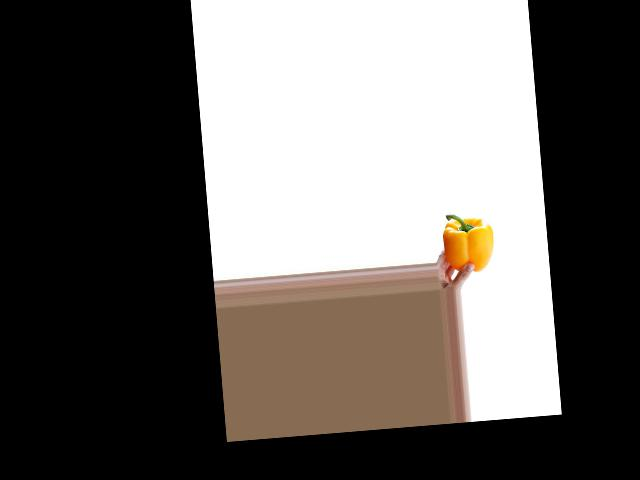bell_pepper: (441, 208, 497, 275)
